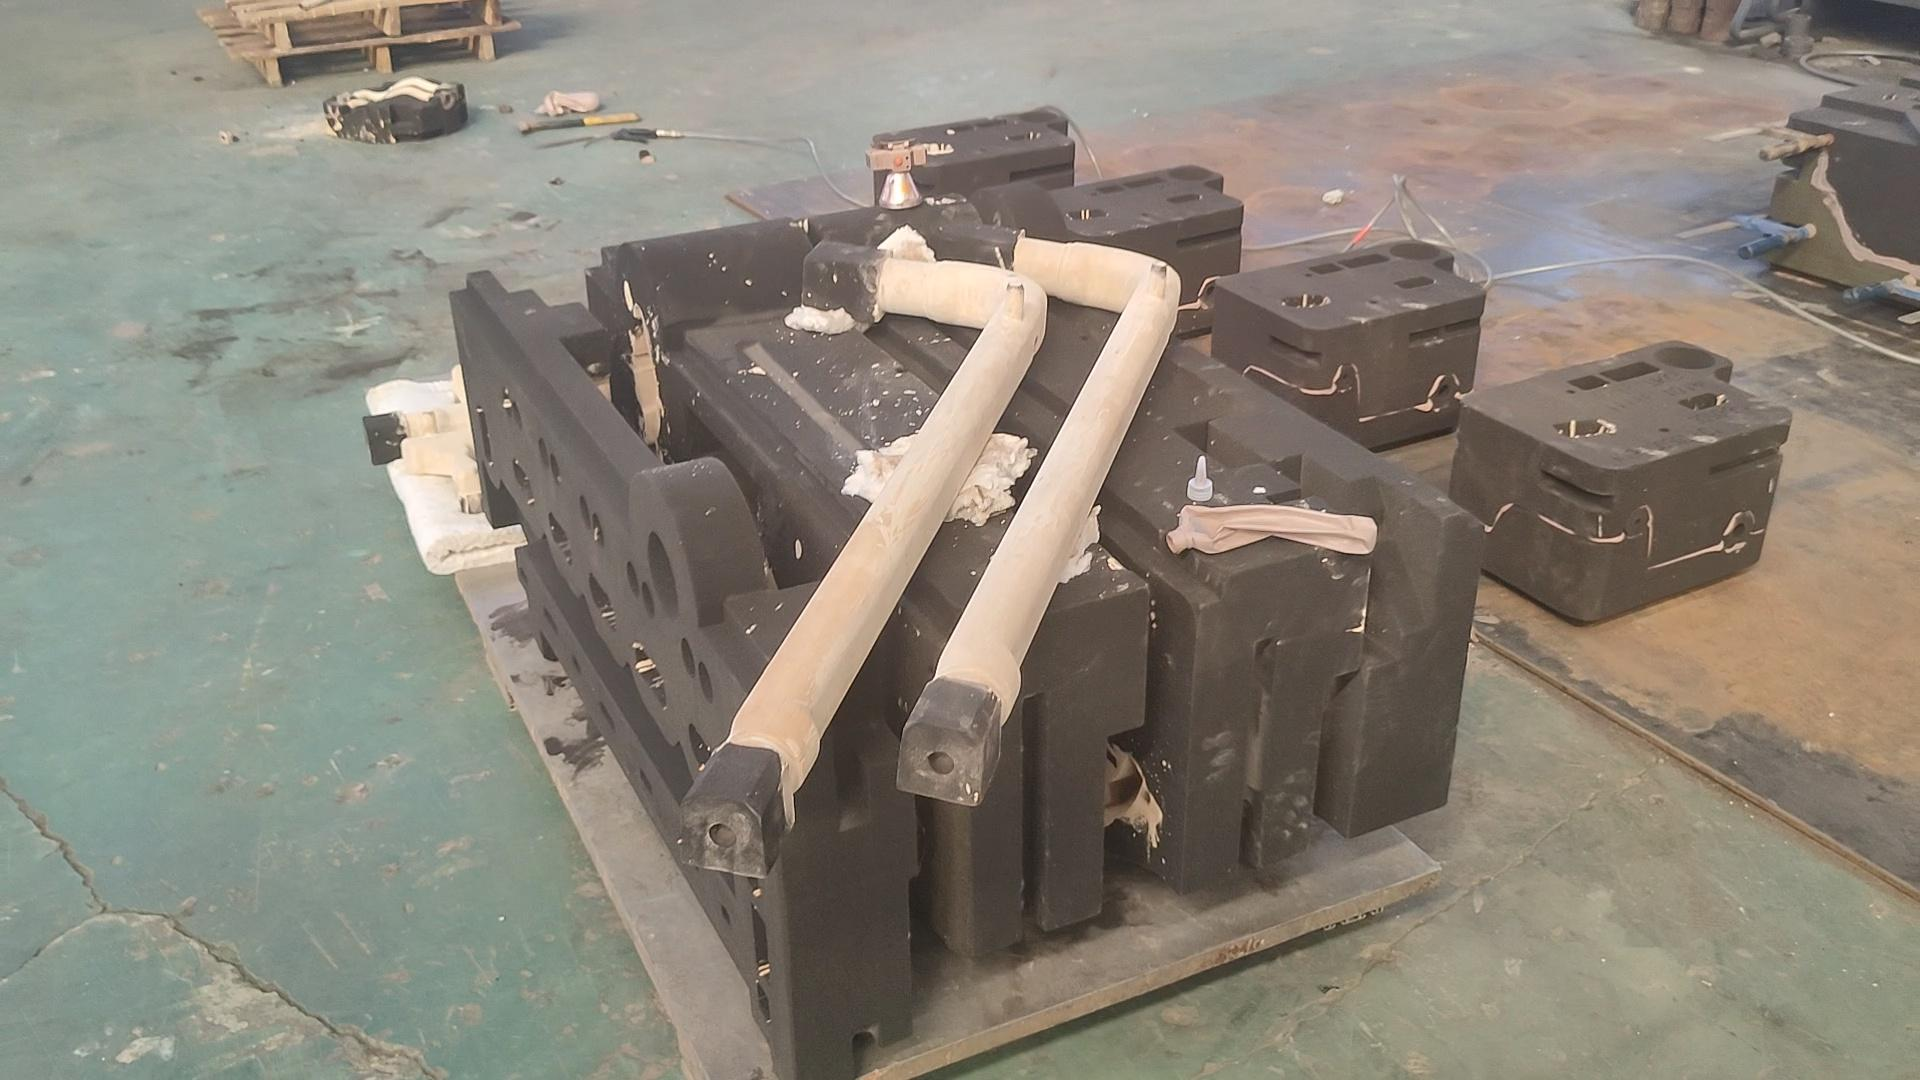pouring hole: (646, 531, 680, 621), (1655, 345, 1716, 369), (1389, 240, 1440, 260), (1167, 165, 1213, 179), (1018, 109, 1058, 123)
